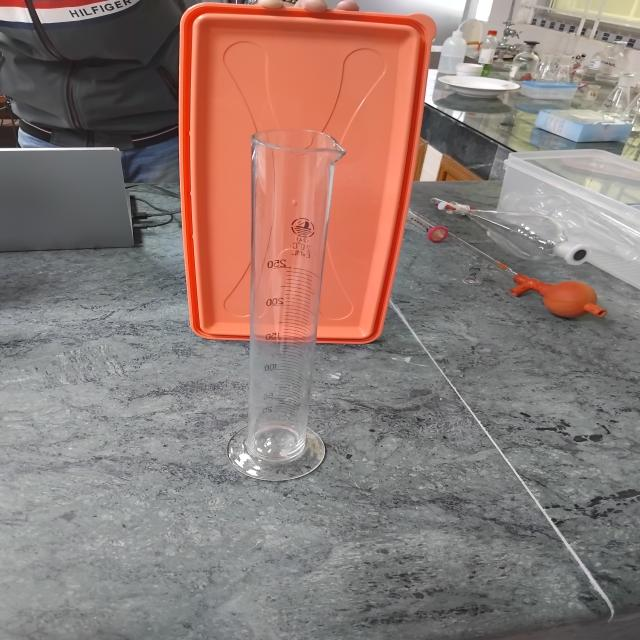Measuring_Cylinder: (219, 77, 384, 509)
